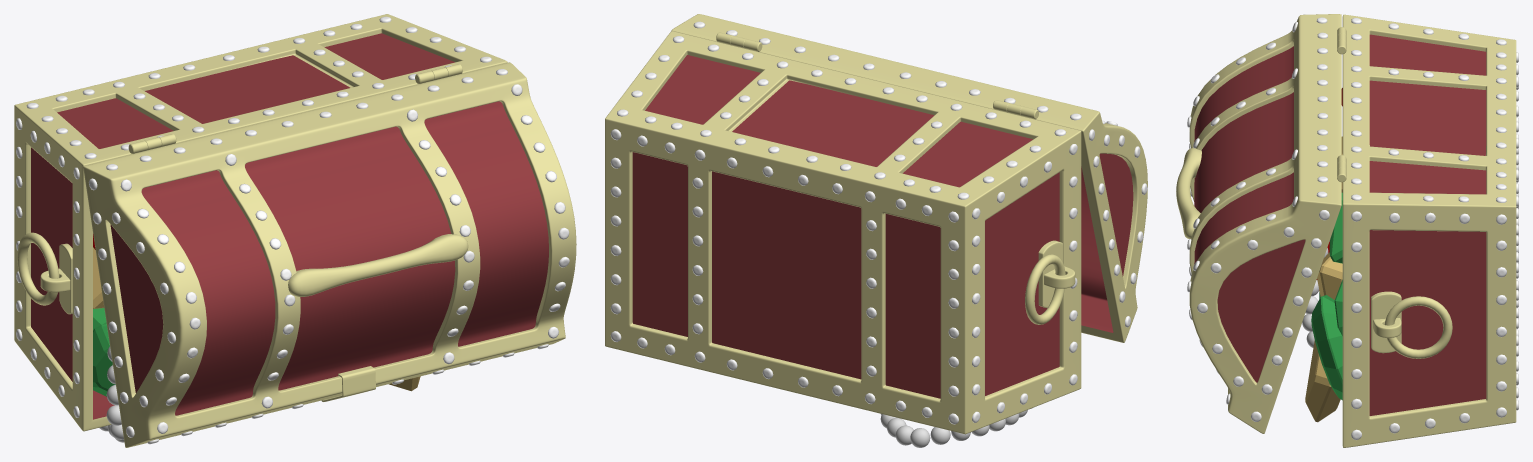
File: takaraY.fbx
3 renders of one model, left to right at view 1: azimuth 30°, elevation 25°; view 2: azimuth 150°, elevation 25°; view 3: azimuth 270°, elevation 25°, orthographic. The views are drawn at different scales.
Parts seen in each view (by area): view 1: _aquarium_treasure_chest_v1_L2:aquarium_treasure_chest_wood, _aquarium_treasure_chest_v1_L2:aquarium_treasure_chest_metal, _aquarium_treasure_chest_v1_L2:aquarium_treasure_chest_bolts, _aquarium_treasure_chest_v1_L2:aquarium_treasure_chest_latch, _aquarium_treasure_chest_v1_L2:aquarium_treasure_chest_stone (×2), _aquarium_treasure_chest_v1_L2:aquarium_treasure_chest_pearl; view 2: _aquarium_treasure_chest_v1_L2:aquarium_treasure_chest_metal, _aquarium_treasure_chest_v1_L2:aquarium_treasure_chest_wood, _aquarium_treasure_chest_v1_L2:aquarium_treasure_chest_bolts, _aquarium_treasure_chest_v1_L2:aquarium_treasure_chest_latch, _aquarium_treasure_chest_v1_L2:aquarium_treasure_chest_pearl; view 3: _aquarium_treasure_chest_v1_L2:aquarium_treasure_chest_metal, _aquarium_treasure_chest_v1_L2:aquarium_treasure_chest_wood, _aquarium_treasure_chest_v1_L2:aquarium_treasure_chest_bolts, _aquarium_treasure_chest_v1_L2:aquarium_treasure_chest_stone (×2), _aquarium_treasure_chest_v1_L2:aquarium_treasure_chest_latch, _aquarium_treasure_chest_v1_L2:aquarium_treasure_chest_pearl.
Part boxes in pixels (x1=…): _aquarium_treasure_chest_v1_L2:aquarium_treasure_chest_wood: x1=31, y1=33, x2=548, y2=419; _aquarium_treasure_chest_v1_L2:aquarium_treasure_chest_metal: x1=14, y1=14, x2=576, y2=447; _aquarium_treasure_chest_v1_L2:aquarium_treasure_chest_bolts: x1=16, y1=16, x2=569, y2=444; _aquarium_treasure_chest_v1_L2:aquarium_treasure_chest_latch: x1=40, y1=64, x2=462, y2=401; _aquarium_treasure_chest_v1_L2:aquarium_treasure_chest_stone (×2): x1=93, y1=247, x2=420, y2=396; _aquarium_treasure_chest_v1_L2:aquarium_treasure_chest_pearl: x1=99, y1=346, x2=124, y2=442; _aquarium_treasure_chest_v1_L2:aquarium_treasure_chest_metal: x1=605, y1=14, x2=1147, y2=434; _aquarium_treasure_chest_v1_L2:aquarium_treasure_chest_wood: x1=632, y1=55, x2=1133, y2=398; _aquarium_treasure_chest_v1_L2:aquarium_treasure_chest_bolts: x1=610, y1=21, x2=1147, y2=424; _aquarium_treasure_chest_v1_L2:aquarium_treasure_chest_latch: x1=716, y1=32, x2=1075, y2=307; _aquarium_treasure_chest_v1_L2:aquarium_treasure_chest_pearl: x1=880, y1=408, x2=1032, y2=447; _aquarium_treasure_chest_v1_L2:aquarium_treasure_chest_metal: x1=1176, y1=14, x2=1516, y2=447; _aquarium_treasure_chest_v1_L2:aquarium_treasure_chest_wood: x1=1194, y1=34, x2=1486, y2=415; _aquarium_treasure_chest_v1_L2:aquarium_treasure_chest_bolts: x1=1187, y1=17, x2=1518, y2=440; _aquarium_treasure_chest_v1_L2:aquarium_treasure_chest_stone (×2): x1=1305, y1=136, x2=1342, y2=422; _aquarium_treasure_chest_v1_L2:aquarium_treasure_chest_latch: x1=1337, y1=27, x2=1401, y2=353; _aquarium_treasure_chest_v1_L2:aquarium_treasure_chest_pearl: x1=1302, y1=241, x2=1329, y2=347.
Bounding box in the file's own units: 14.7 × 9.57 × 10.43.
